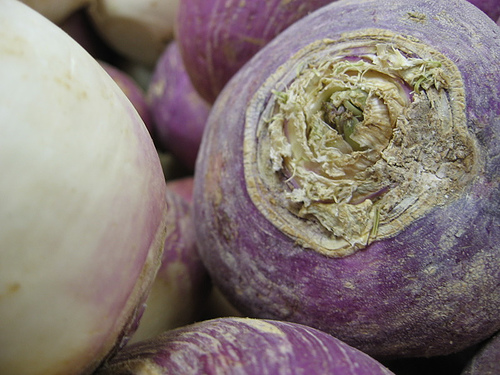turnip: (191, 0, 499, 352), (1, 0, 182, 374), (101, 315, 398, 374), (183, 0, 338, 104), (149, 37, 222, 164)
